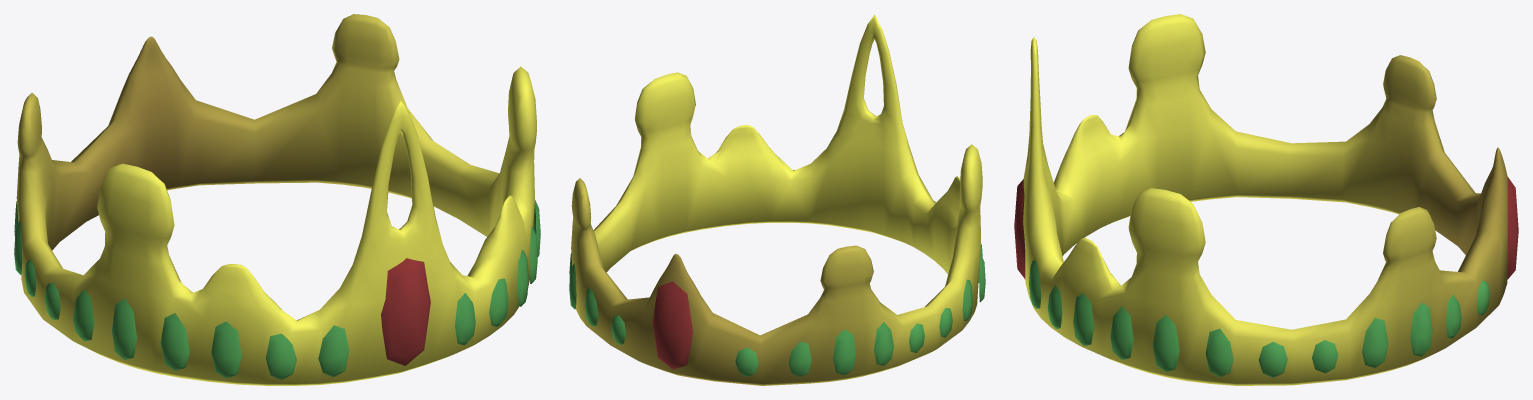
File: MS_Crown01_Default01.fbx
3 renders of one model, left to right at view 1: azimuth 30°, elevation 25°; view 2: azimuth 150°, elevation 25°; view 3: azimuth 270°, elevation 25°, orthographic. The views are drawn at different scales.
Visible parts, largest first — view 1: MS_Crown01_Default01; view 2: MS_Crown01_Default01; view 3: MS_Crown01_Default01.
Part boxes in pixels (x1,y1,x2,y2): MS_Crown01_Default01: (14,14,540,385); MS_Crown01_Default01: (569,14,985,385); MS_Crown01_Default01: (1014,14,1518,385).
Size of the model in its own units: 129 by 76.5 by 136.
